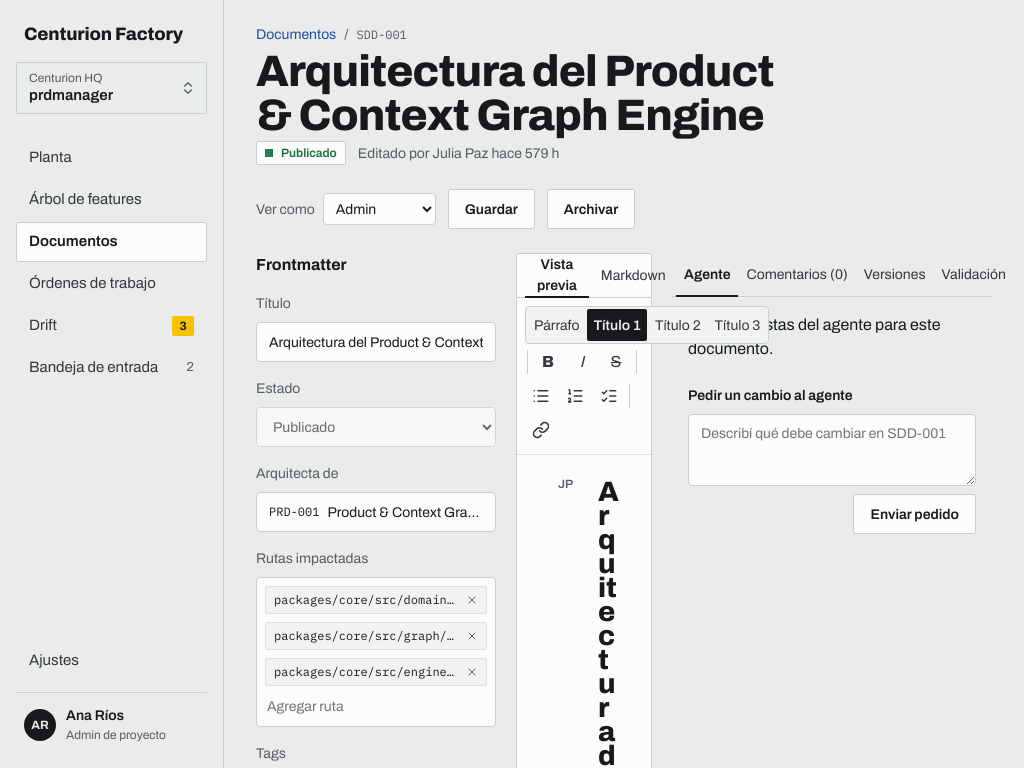
Scenario: WorkflowActions published/archived cycle (SDD-001) › archives and then restores to draft
The image size is (1024, 768).
Click the button "Archivar". click: [591, 209]
box: x1=547 y1=189 x2=635 y2=229
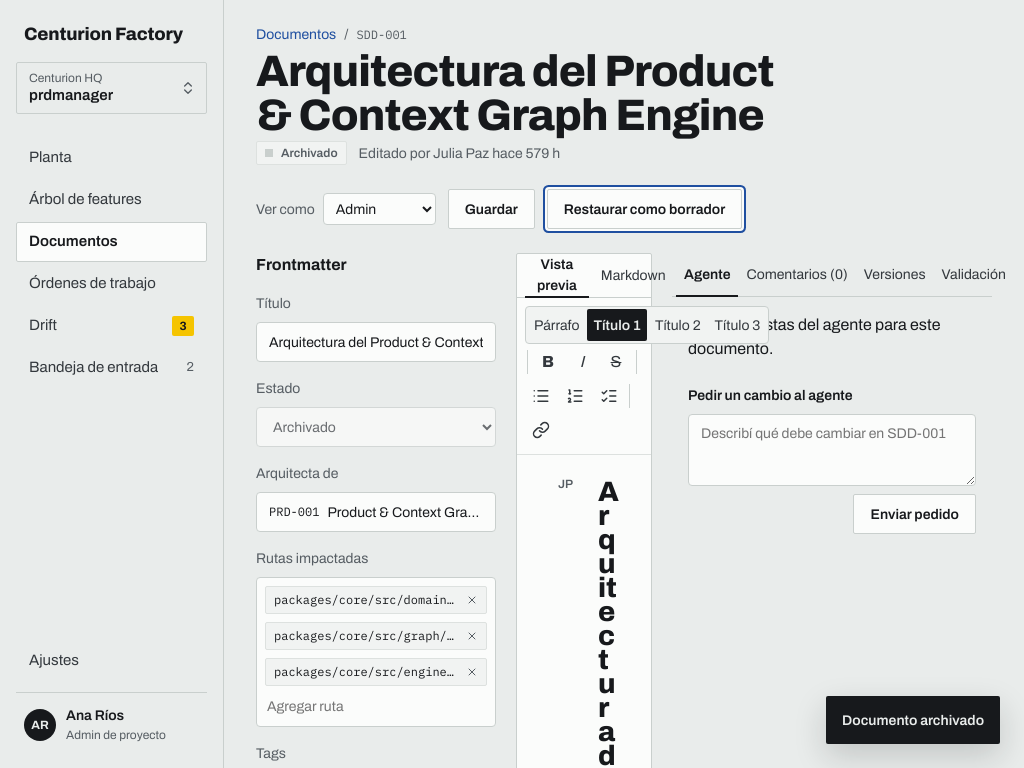
Result: the text "Documento archivado" is shown at x1=826 y1=696 x2=1000 y2=744
Click the button "Restaurar como borrador". click: [644, 209]
box: x1=547 y1=189 x2=742 y2=229
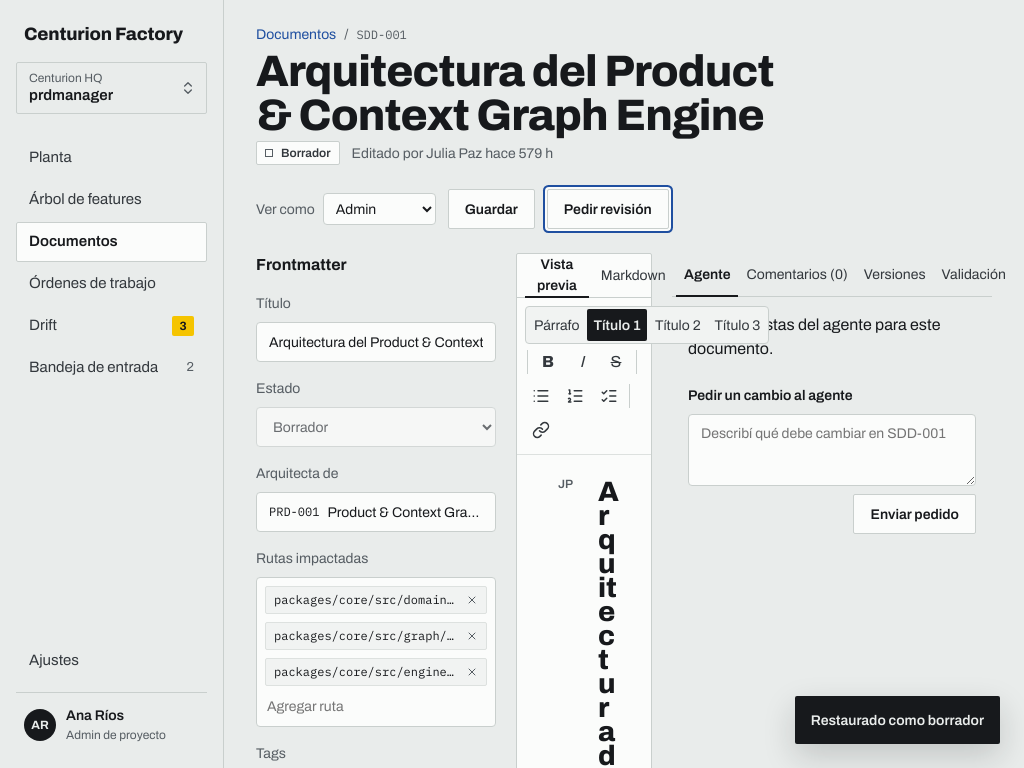
Result: the text "Restaurado como borrador" is shown at x1=795 y1=696 x2=1000 y2=744
